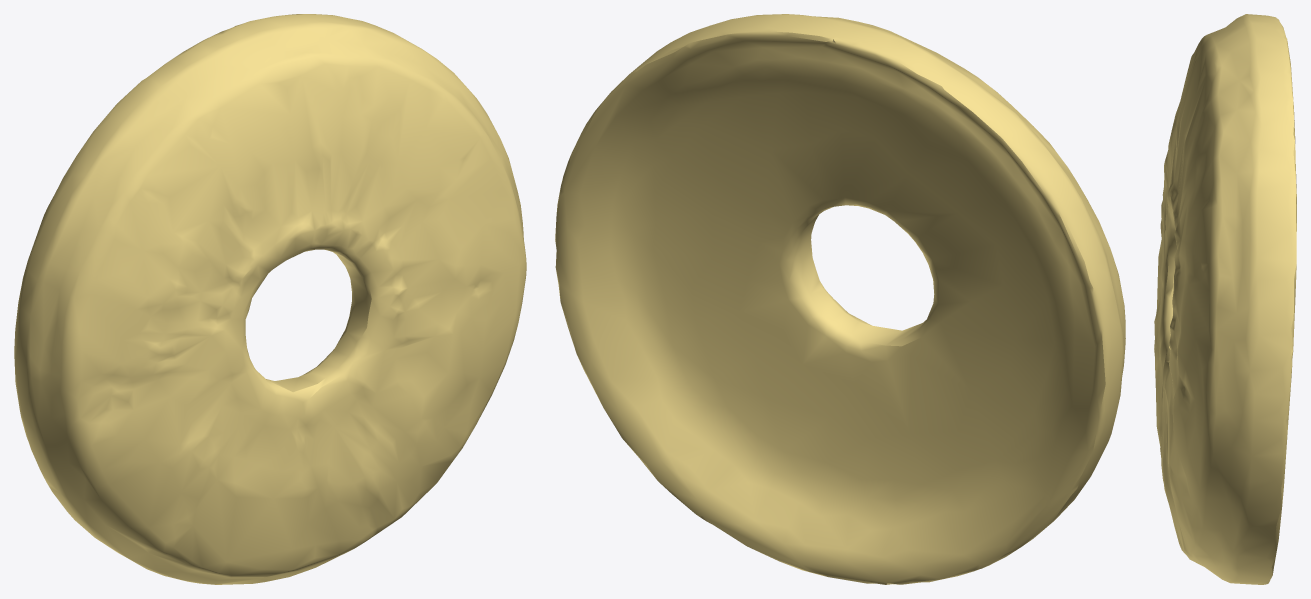
3 renders of one model, left to right at view 1: azimuth 30°, elevation 25°; view 2: azimuth 150°, elevation 25°; view 3: azimuth 270°, elevation 25°, orthographic. The views are drawn at different scales.
Visible parts, largest first — view 1: ZA_417115d34db70a17; view 2: ZA_417115d34db70a17; view 3: ZA_417115d34db70a17.
Part boxes in pixels (x1,y1,x2,y2): ZA_417115d34db70a17: (14, 14, 526, 584); ZA_417115d34db70a17: (555, 14, 1125, 584); ZA_417115d34db70a17: (1154, 14, 1296, 584).
Size of the model in its own units: 0.0129 by 0.0129 by 0.00322.
